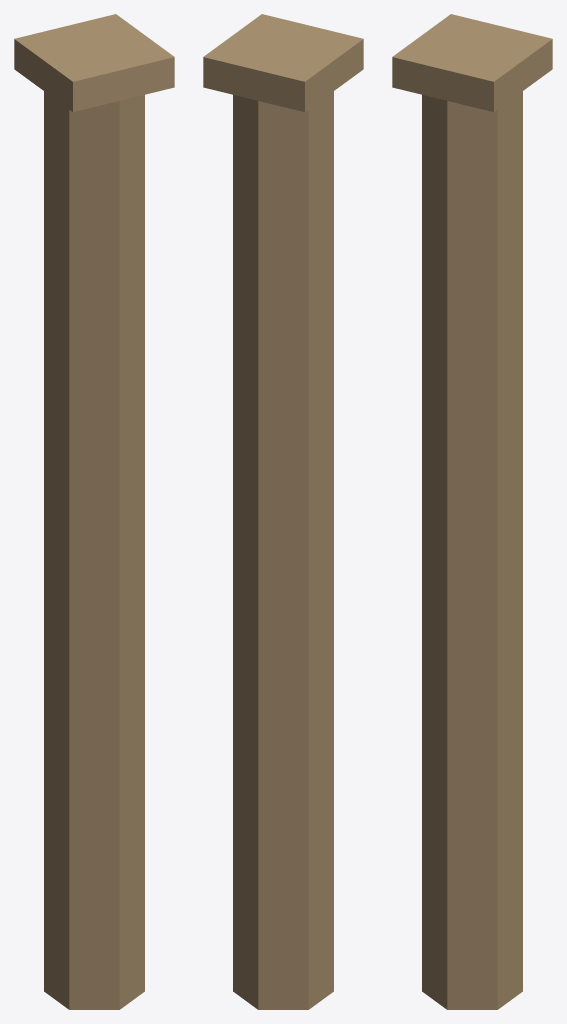
The model's file is wood_post.glb.
3 renders of one model, left to right at view 1: azimuth 30°, elevation 25°; view 2: azimuth 150°, elevation 25°; view 3: azimuth 330°, elevation 25°, orthographic.
Visible parts, largest first — view 1: FenceWoodPost; view 2: FenceWoodPost; view 3: FenceWoodPost.
Boxes of the visible parts, left/top/right/bottom form: FenceWoodPost: left=14, top=14, right=174, bottom=1009; FenceWoodPost: left=203, top=14, right=363, bottom=1009; FenceWoodPost: left=392, top=14, right=552, bottom=1009.
Bounding box in the file's own units: 0.14 × 1.24 × 0.14.
